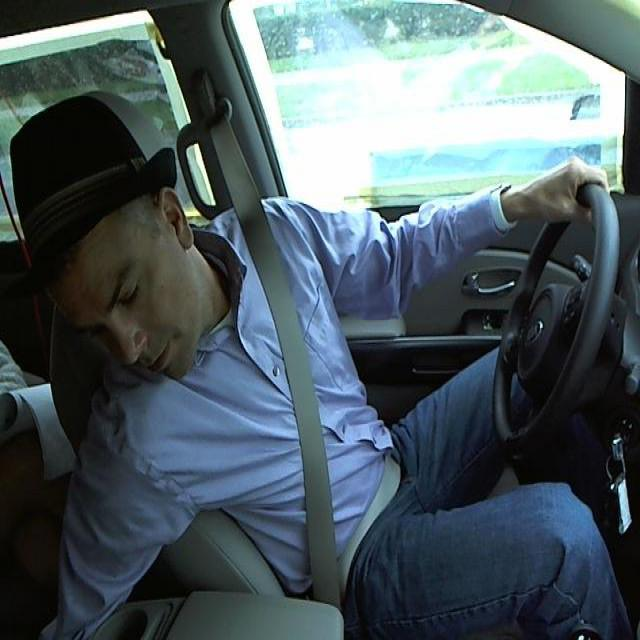seatbelt: (259, 269, 363, 592)
